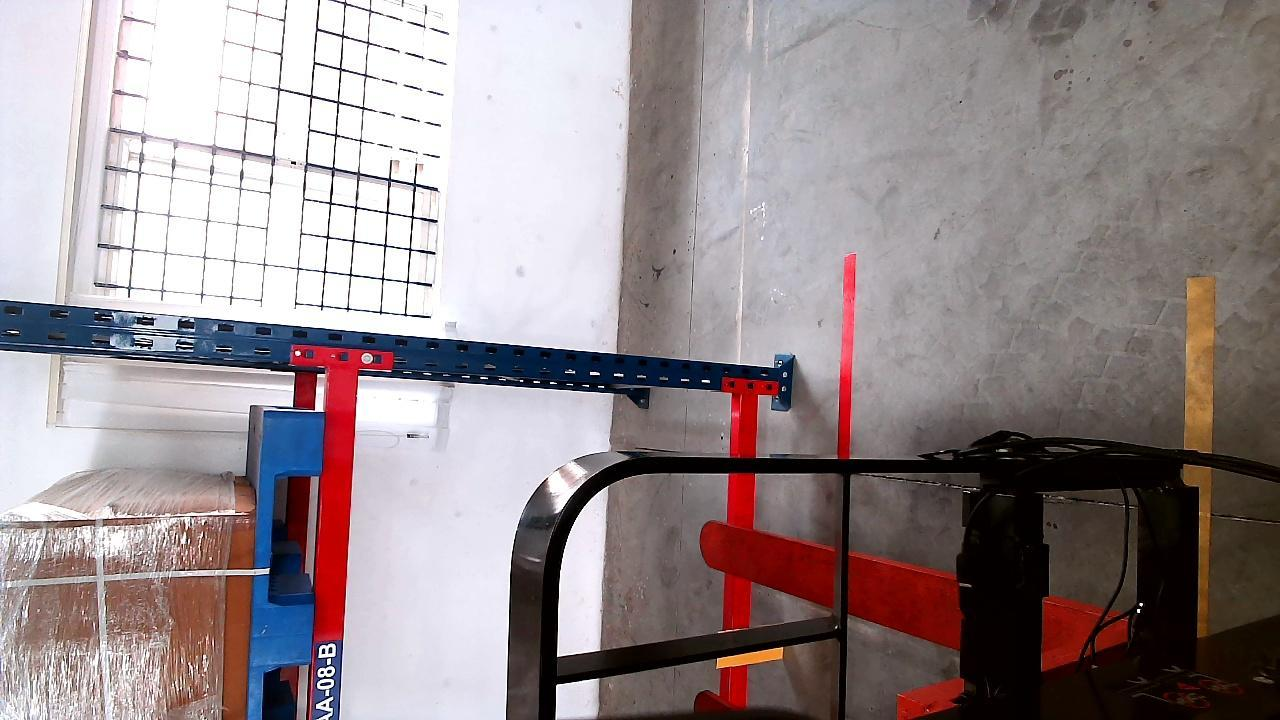red_line: (836, 250, 856, 455)
yellow_line: (1186, 258, 1217, 666)
